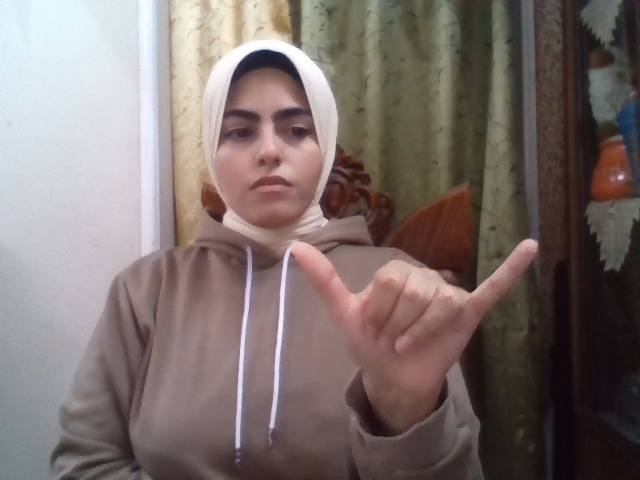Y: (291, 239, 539, 398)
